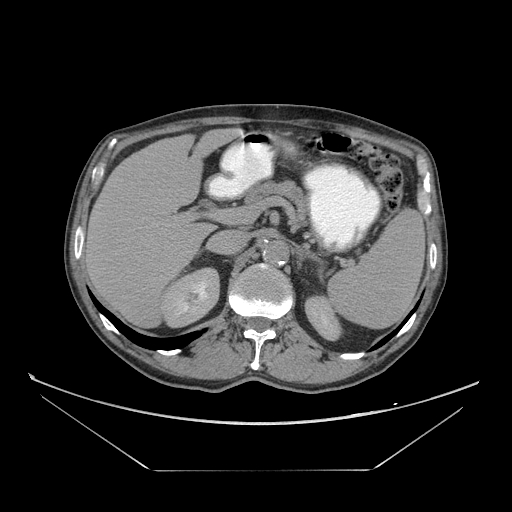left_kidney: (159, 269, 223, 333)
right_kidney: (301, 289, 346, 346)
